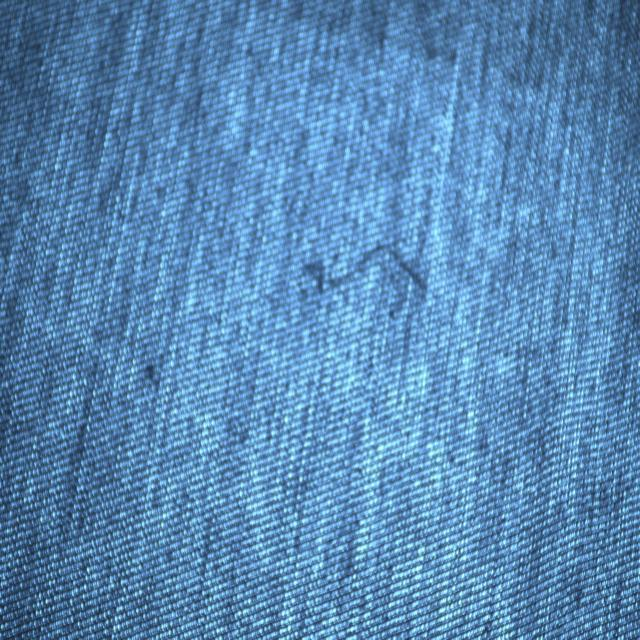defect: (304, 234, 435, 299)
